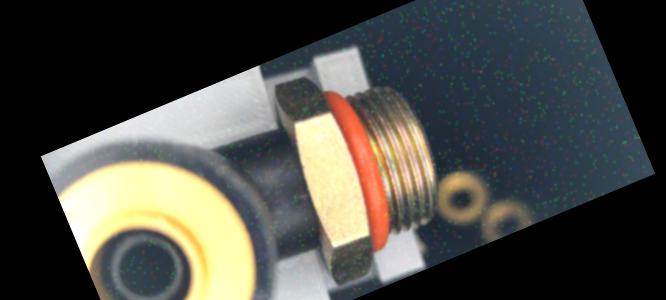white mark: (292, 187, 311, 206)
